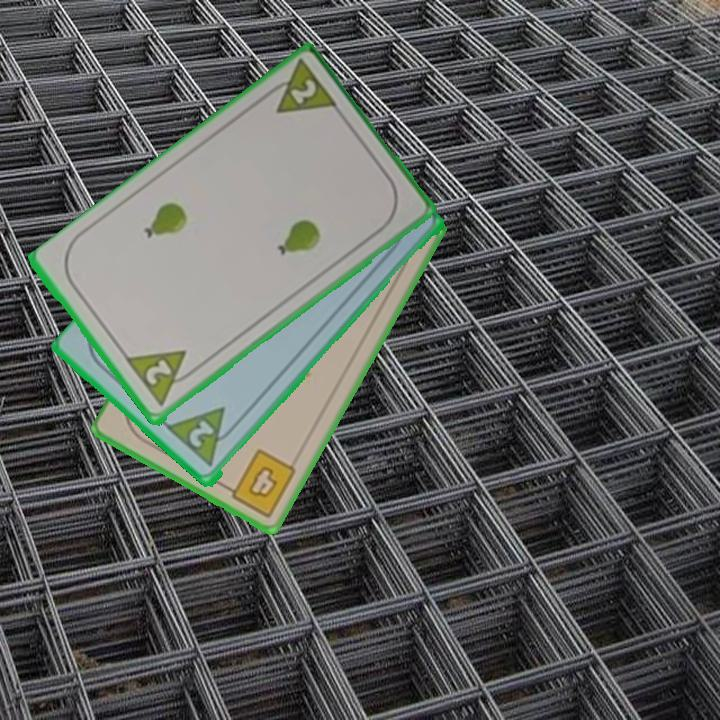2p: (164, 404, 243, 471), (259, 58, 342, 118), (141, 356, 175, 389)
4b: (219, 445, 300, 521)
